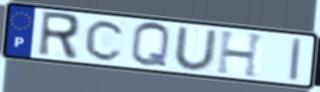C: (83, 18, 128, 62)
H: (214, 29, 267, 80)
I: (287, 36, 304, 84)
Q: (129, 20, 173, 70)
R: (35, 10, 82, 62)
U: (172, 26, 219, 73)
